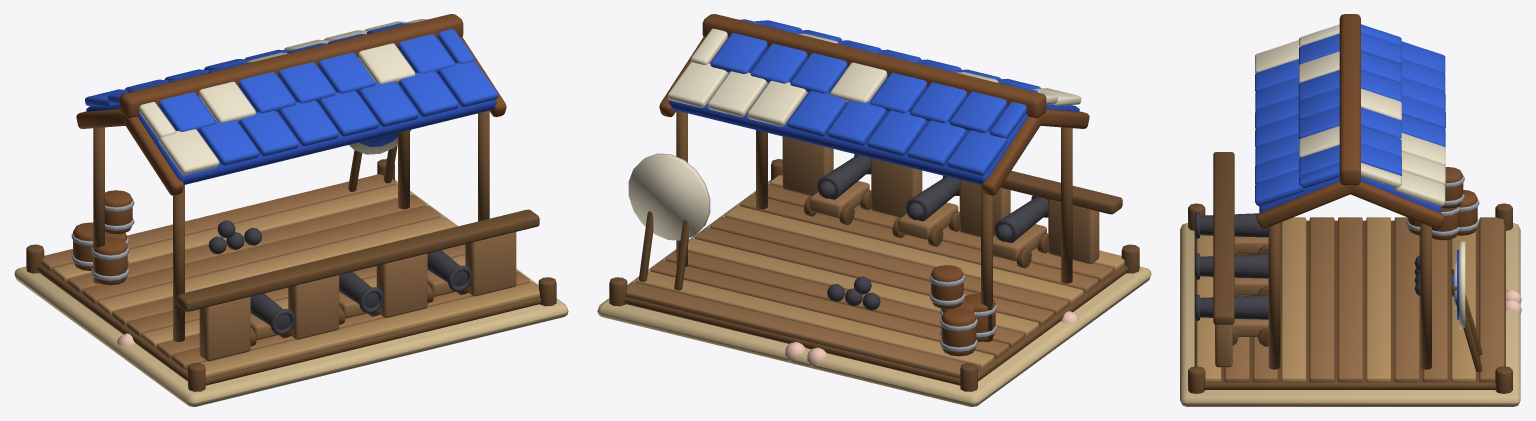
Rendered from ArcheryRange.glb.
The picture shows the model from 3 angles, left to right: view 1: azimuth 30°, elevation 25°; view 2: azimuth 150°, elevation 25°; view 3: azimuth 270°, elevation 25°; orthographic projection. The views are drawn at different scales.
Parts seen in each view (by area): view 1: ArcheryRange; view 2: ArcheryRange; view 3: ArcheryRange.
Boxes of the visible parts, x1,y1,x2,y2 form: ArcheryRange: [14, 14, 568, 406]; ArcheryRange: [597, 14, 1151, 406]; ArcheryRange: [1180, 14, 1521, 406].
Bounding box in the file's own units: 4.3 × 2.63 × 3.51.
